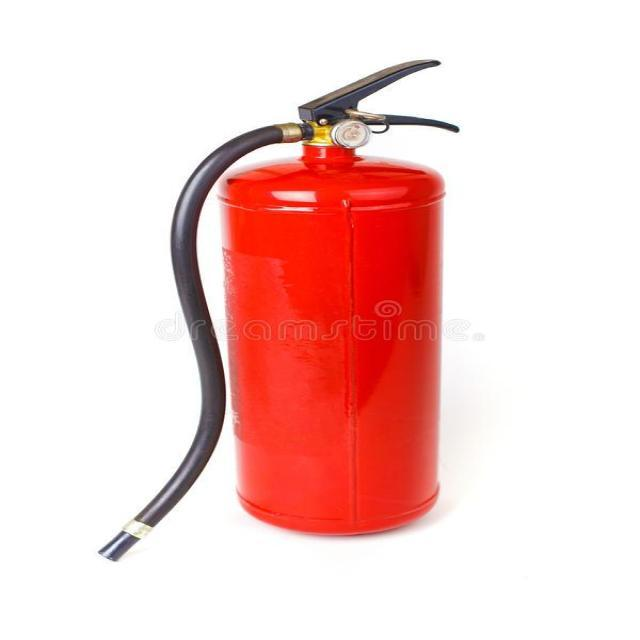fire_extinguisher: (88, 50, 478, 564)
